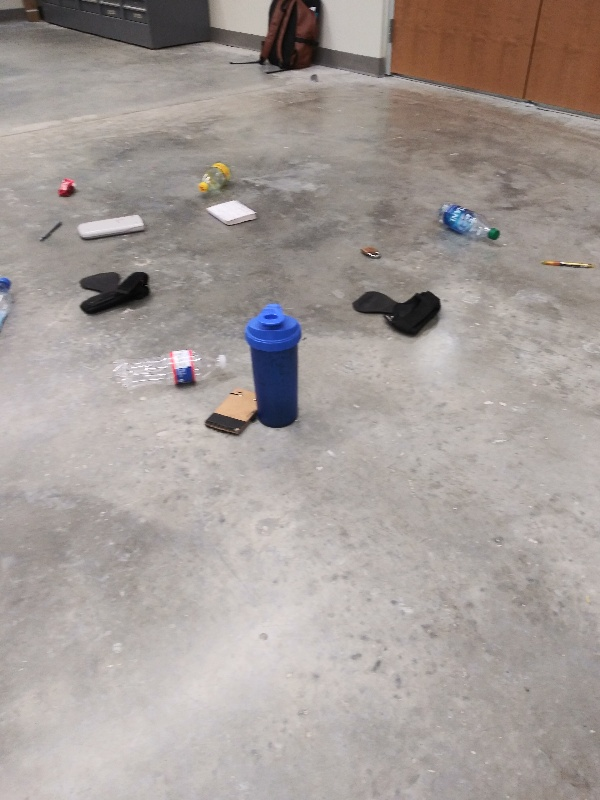bottle: (114, 346, 230, 397), (434, 199, 500, 246), (195, 158, 238, 197), (1, 272, 15, 322)
